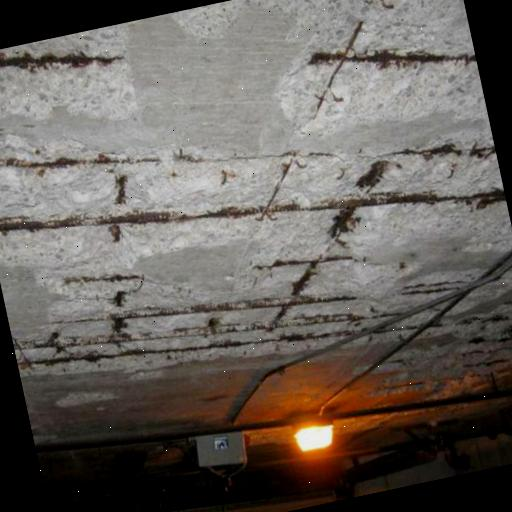spalling: (0, 144, 500, 261), (14, 264, 500, 372), (145, 0, 466, 112), (0, 25, 132, 115)
